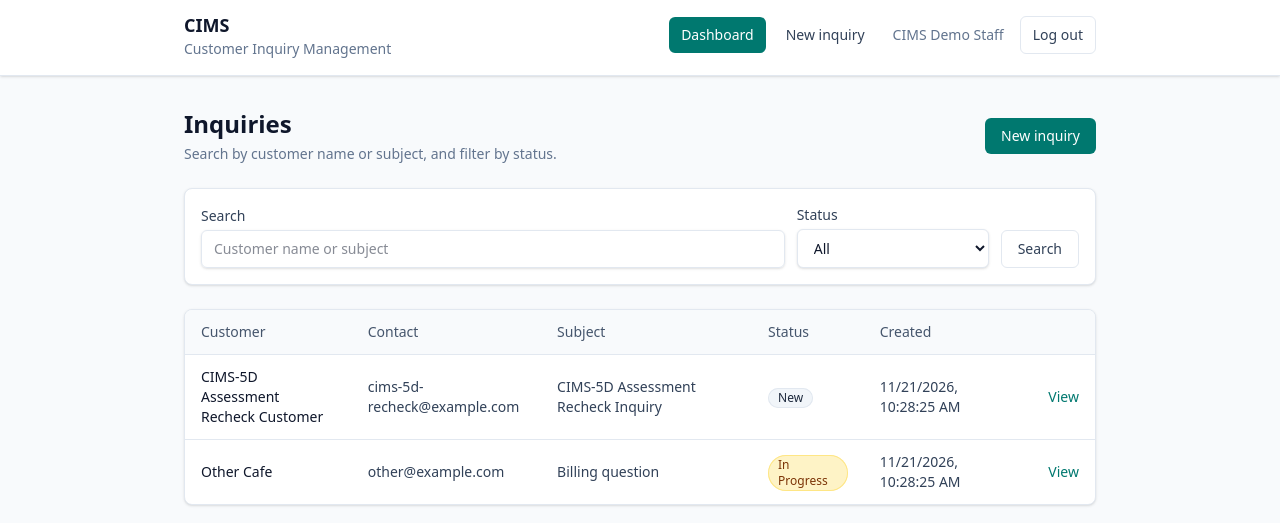
Dashboard › combines search and status filtering
Type "Recheck" into the search field labelled "Search". click: {"x": 493, "y": 249}
box: 201,230 -> 785,268
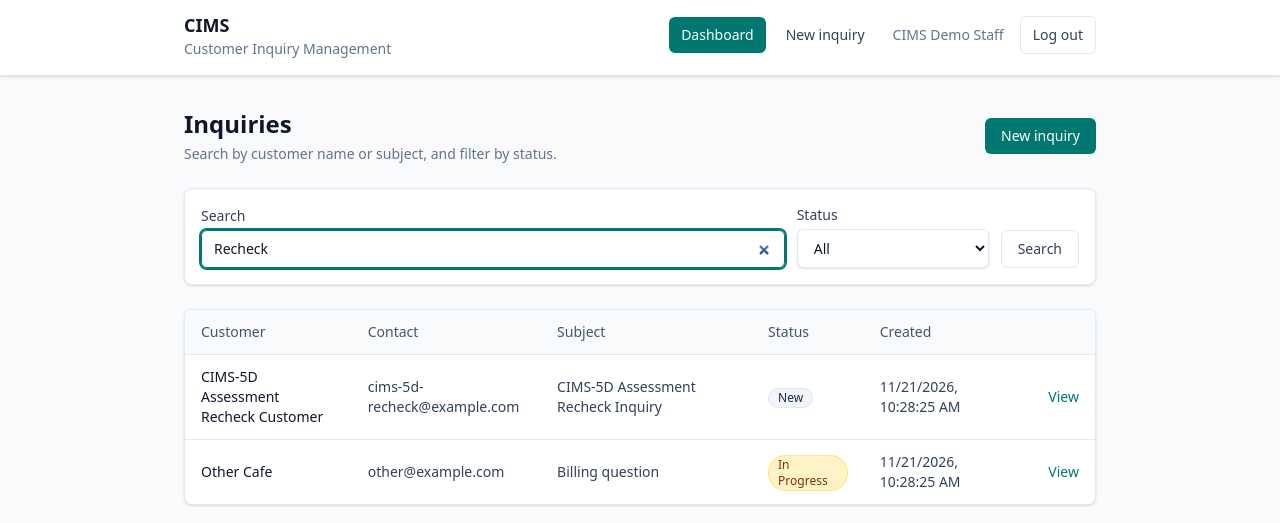
Click the button "Search". click: {"x": 1040, "y": 249}
box: 1001,230 -> 1079,268
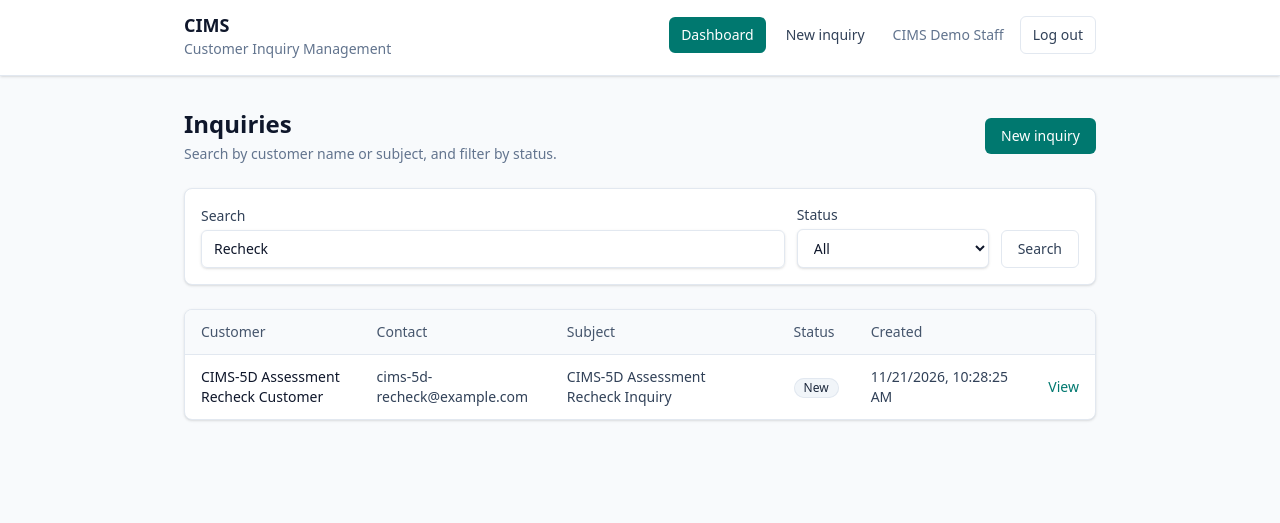
Select "In Progress" in the dropdown labelled "Status". click: {"x": 893, "y": 248}
box: 797,229 -> 989,268
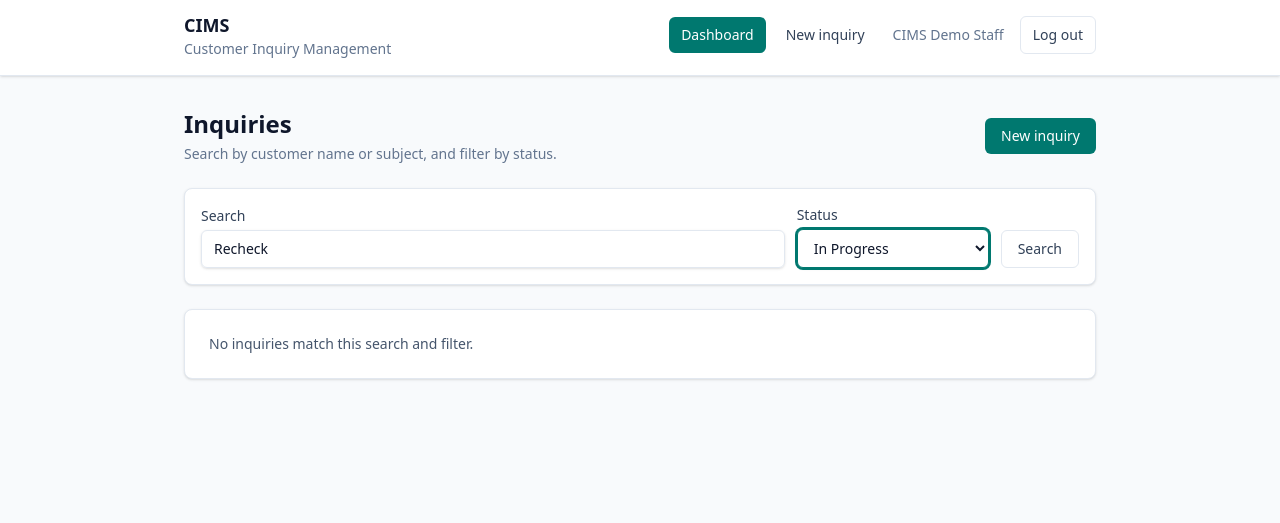
Expected: the text "No inquiries match this search and filter." is shown, 209,334 -> 473,353
